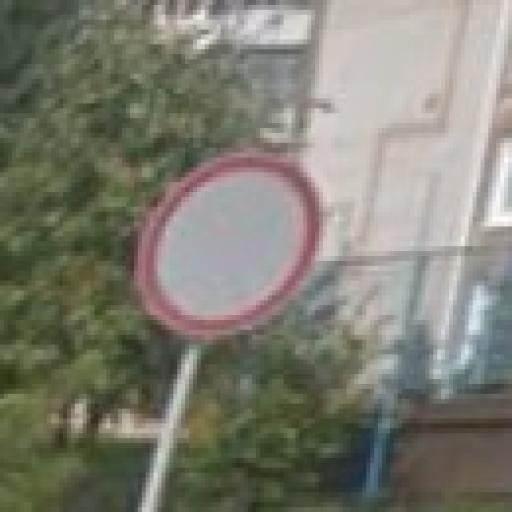traffic_sign: (135, 154, 324, 341)
